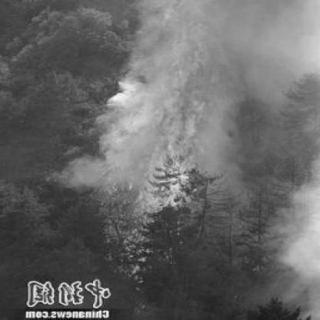Fire: (99, 0, 218, 290)
